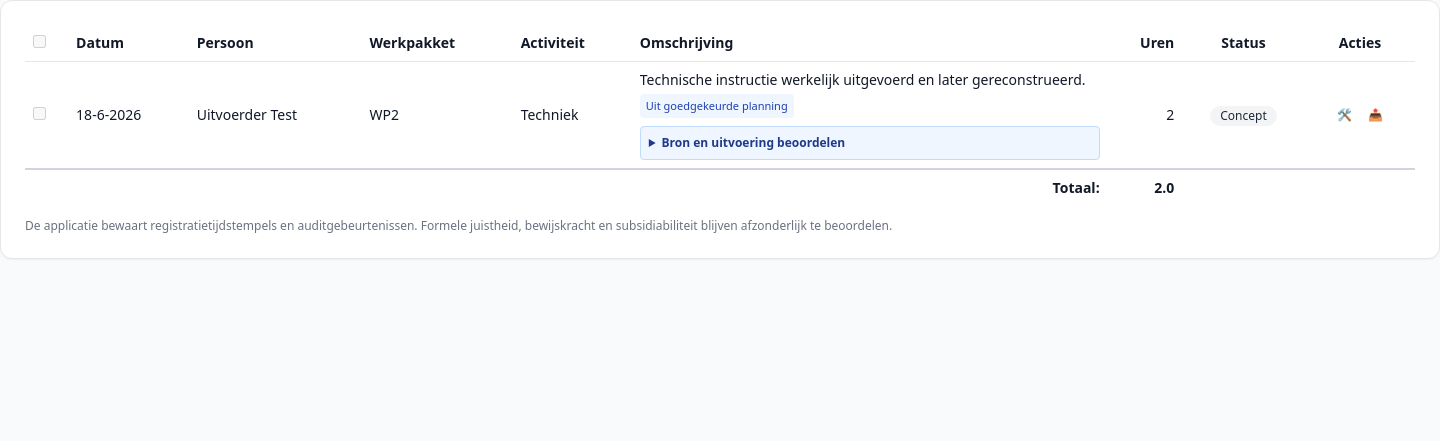
Scenario: HoursList historische reconstructies › markeert een concept uit planning en biedt geen misleidende verwijderactie
Expected: the text "Uit goedgekeurde planning" is shown, top-left (640, 94), bottom-right (794, 118)
Click the heading "Bron en uitvoering beoordelen".
click(753, 142)  # box top-left (662, 134), bottom-right (845, 151)
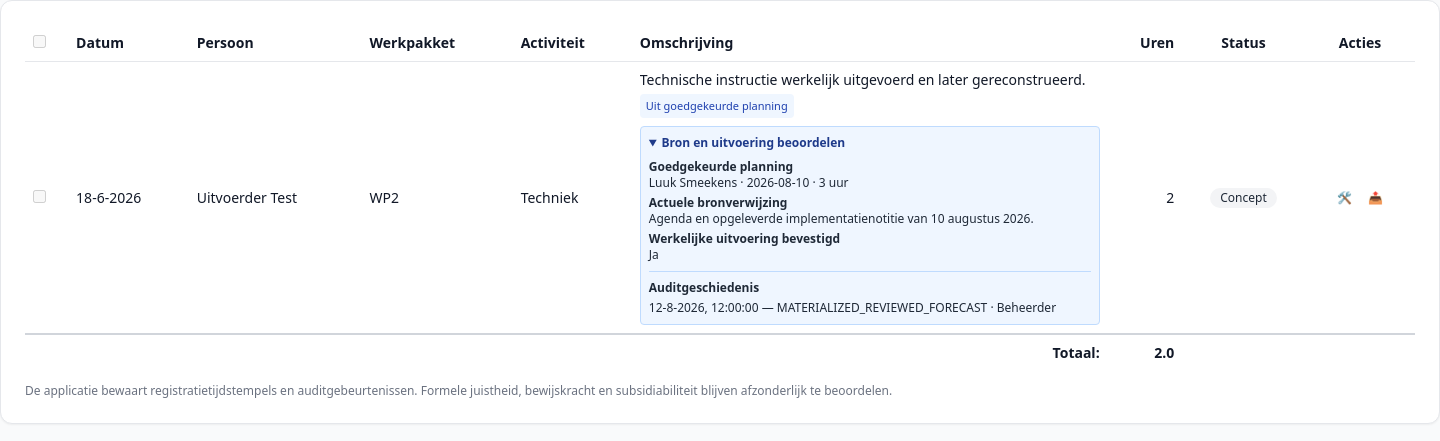
Expected: the button named "Indienen planninguur" is shown, top-left (1362, 186), bottom-right (1389, 210)
Now the text "Agenda en opgeleverde implementatienotitie van 10 augustus 2026." is shown, box top-left (649, 211), bottom-right (1091, 227)
Now the text "Werkelijke uitvoering bevestigd" is shown, box top-left (649, 230), bottom-right (840, 247)
